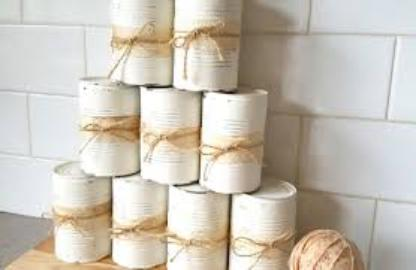Can: (201, 85, 265, 191), (228, 177, 294, 269), (172, 1, 240, 90), (52, 160, 110, 264), (138, 84, 198, 184), (80, 78, 140, 175), (110, 168, 166, 268), (166, 179, 226, 268), (110, 0, 172, 82)
